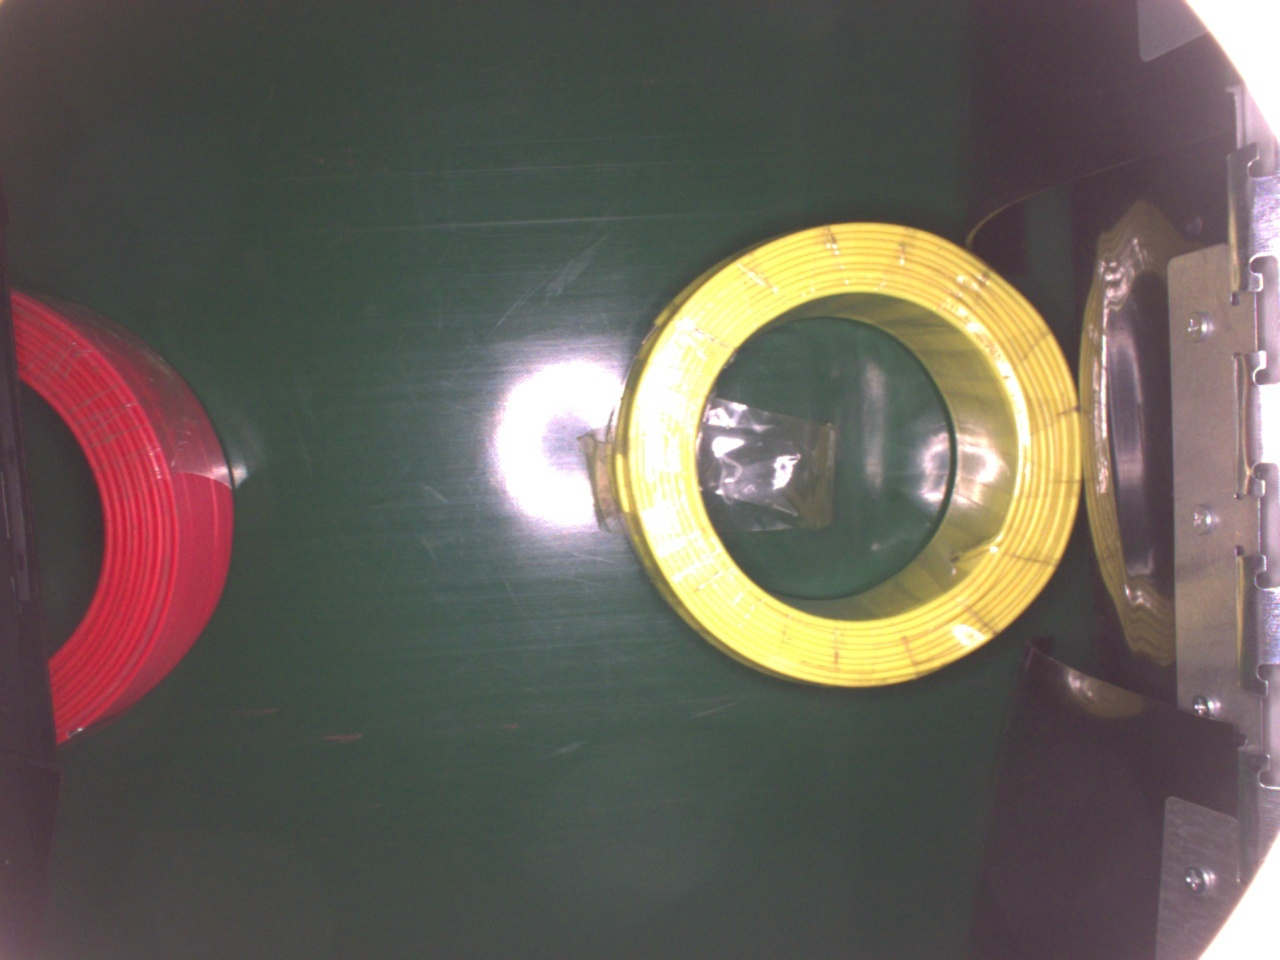red: (2, 286, 236, 748)
yellow: (611, 207, 1082, 693)
